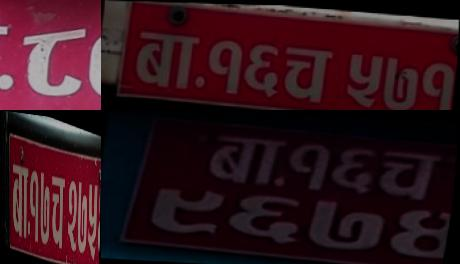0: (84, 22, 101, 109)
1: (282, 137, 334, 192), (203, 33, 247, 96), (417, 56, 458, 110), (28, 164, 40, 246)
2: (66, 172, 78, 253)
4: (387, 202, 454, 261), (97, 178, 100, 257)
5: (342, 48, 385, 108), (87, 178, 98, 262)
6: (224, 189, 310, 248), (327, 141, 379, 197), (242, 39, 285, 101)
7: (302, 195, 394, 254), (379, 51, 423, 110), (38, 166, 52, 248), (76, 175, 88, 258)
8: (16, 21, 94, 100)
9: (143, 182, 233, 240)
ba: (202, 130, 288, 190), (129, 26, 203, 92), (10, 157, 29, 244)
cha: (371, 147, 445, 204), (278, 41, 336, 105), (50, 168, 66, 254)
